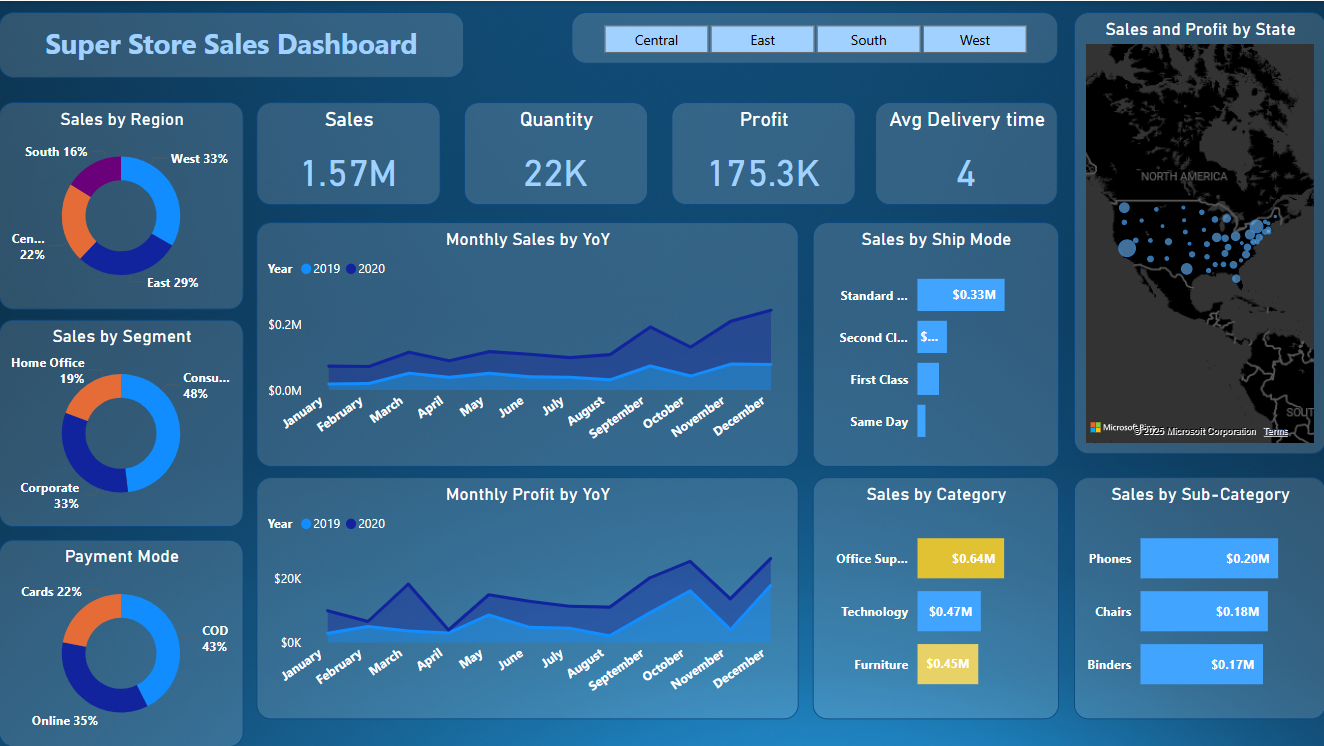

Layout of this report page (visuals, bound fields, positions):
{"tool":"powerbi","page":{"name":"Dashboard","canvas":[1280,720],"ordinal":0},"visuals":[{"type":"clusteredBarChart","title":"Sales by Category","fields":{"Category":["SuperStore_Sales_Dataset.Category"],"Y":["Sum(SuperStore_Sales_Dataset.Sales)"]},"box":[784.9,459.7,237.4,233.3],"z":0},{"type":"clusteredBarChart","title":"Sales by Sub-Category","fields":{"Category":["SuperStore_Sales_Dataset.Sub-Category"],"Y":["Sum(SuperStore_Sales_Dataset.Sales)"]},"box":[1037.4,459.7,242.9,233.3],"z":1000},{"type":"clusteredBarChart","title":"Sales by Ship Mode","fields":{"Category":["SuperStore_Sales_Dataset.Ship Mode"],"Y":["Sum(SuperStore_Sales_Dataset.Sales)"]},"box":[784.9,214.1,237.4,236],"z":2000},{"type":"stackedAreaChart","title":"Monthly Sales by YoY","fields":{"Category":["SuperStore_Sales_Dataset.Order Date.Variation.Date Hierarchy.Month"],"Y":["Sum(SuperStore_Sales_Dataset.Sales)"],"Series":["SuperStore_Sales_Dataset.Order Date.Variation.Date Hierarchy.Year"]},"box":[248.4,214.1,522.8,236],"z":3000},{"type":"stackedAreaChart","title":"Monthly Profit by YoY","fields":{"Category":["SuperStore_Sales_Dataset.Order Date.Variation.Date Hierarchy.Month"],"Series":["SuperStore_Sales_Dataset.Order Date.Variation.Date Hierarchy.Year"],"Y":["Sum(SuperStore_Sales_Dataset.Profit)"]},"box":[248.4,459.7,522.8,233.3],"z":4000},{"type":"map","title":"Sales and Profit by State","fields":{"Category":["SuperStore_Sales_Dataset.State"],"Size":["Sum(SuperStore_Sales_Dataset.Sales)"]},"box":[1037.4,11,242.9,426.8],"z":5000},{"type":"donutChart","title":"Sales by Segment","fields":{"Category":["SuperStore_Sales_Dataset.Segment"],"Y":["Sum(SuperStore_Sales_Dataset.Sales)"]},"box":[0,307.4,236,200.3],"z":6000},{"type":"donutChart","title":"Payment Mode","fields":{"Category":["SuperStore_Sales_Dataset.Payment Mode"],"Y":["Sum(SuperStore_Sales_Dataset.Sales)"]},"box":[0,520.1,236,200.3],"z":7000},{"type":"slicer","fields":{"Values":["SuperStore_Sales_Dataset.Region"]},"box":[553,11,469.3,49.4],"z":8000},{"type":"textbox","box":[0,11,448.7,63.1],"z":9000},{"type":"cardVisual","title":"Sales","fields":{"Data":["Sum(SuperStore_Sales_Dataset.Sales)"]},"box":[248.5,97.7,177.3,98.9],"z":10000},{"type":"cardVisual","title":"Quantity","fields":{"Data":["Sum(SuperStore_Sales_Dataset.Quantity)"]},"box":[448.8,97.7,177.3,98.9],"z":11000},{"type":"cardVisual","title":"Profit","fields":{"Data":["Sum(SuperStore_Sales_Dataset.Profit)"]},"box":[649.1,97.7,177.3,98.9],"z":12000},{"type":"cardVisual","title":"Avg Delivery time","fields":{"Data":["Avg(SuperStore_Sales_Dataset.AvgDelivery)"]},"box":[845.7,97.7,176.1,98.9],"z":13000},{"type":"donutChart","title":"Sales by Region","fields":{"Category":["SuperStore_Sales_Dataset.Region"],"Y":["Sum(SuperStore_Sales_Dataset.Sales)"]},"box":[0,97.4,236,200.3],"z":14000}]}

Visuals, with their boxes in screenshot pixels (x1, y1, x2, y2), scaled from the page's 1280x720 canvas onto the 1324x746 screenshot:
"Sales by Category" clusteredBarChart: select_region(812, 476, 1057, 718)
"Sales by Sub-Category" clusteredBarChart: select_region(1073, 476, 1323, 718)
"Sales by Ship Mode" clusteredBarChart: select_region(812, 222, 1057, 466)
"Monthly Sales by YoY" stackedAreaChart: select_region(257, 222, 798, 466)
"Monthly Profit by YoY" stackedAreaChart: select_region(257, 476, 798, 718)
"Sales and Profit by State" map: select_region(1073, 11, 1323, 454)
"Sales by Segment" donutChart: select_region(0, 319, 244, 526)
"Payment Mode" donutChart: select_region(0, 539, 244, 745)
slicer - SuperStore_Sales_Dataset.Region: select_region(572, 11, 1057, 63)
textbox: select_region(0, 11, 464, 77)
"Sales" cardVisual: select_region(257, 101, 440, 204)
"Quantity" cardVisual: select_region(464, 101, 648, 204)
"Profit" cardVisual: select_region(671, 101, 855, 204)
"Avg Delivery time" cardVisual: select_region(875, 101, 1057, 204)
"Sales by Region" donutChart: select_region(0, 101, 244, 308)
